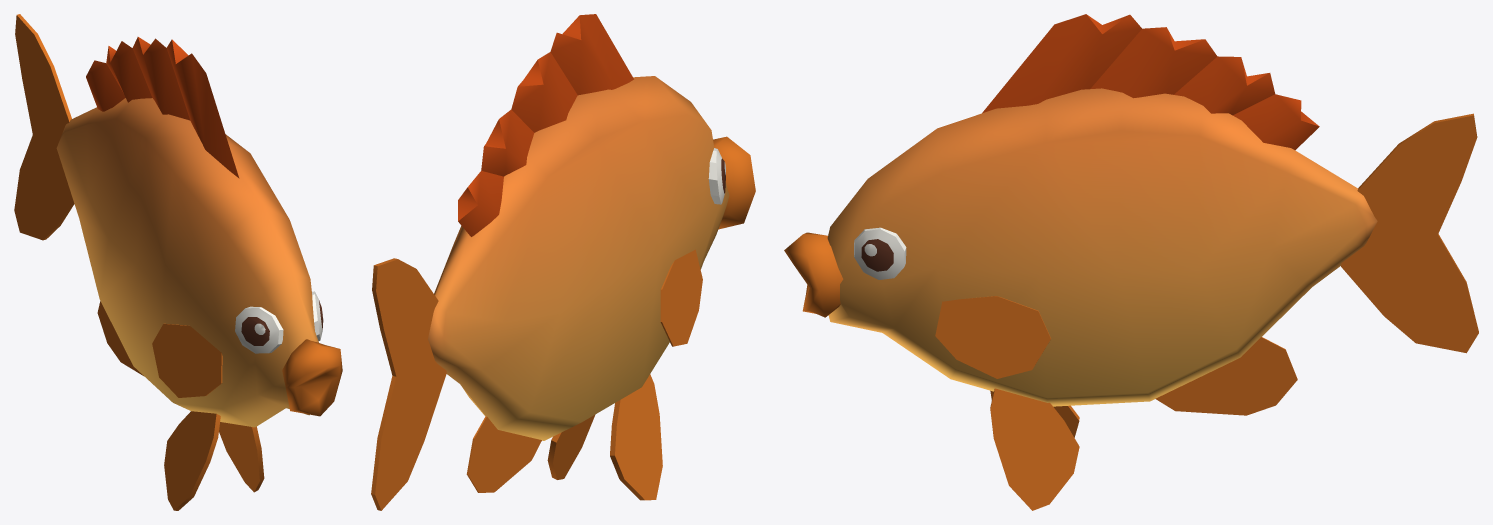
The picture shows the model from 3 angles, left to right: view 1: azimuth 30°, elevation 25°; view 2: azimuth 150°, elevation 25°; view 3: azimuth 270°, elevation 25°; orthographic projection. The views are drawn at different scales.
Parts seen in each view (by area): view 1: Fish_CrucianCarp; view 2: Fish_CrucianCarp; view 3: Fish_CrucianCarp.
Part boxes in pixels (x1,y1,x2,y2): Fish_CrucianCarp: (14, 14, 342, 510); Fish_CrucianCarp: (371, 14, 755, 510); Fish_CrucianCarp: (784, 14, 1478, 510).
Size of the model in its own units: 11.91 by 41.23 by 54.59.
